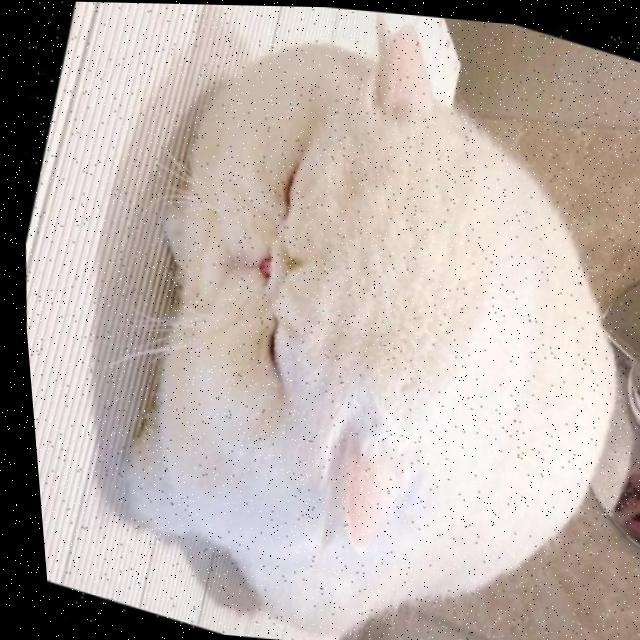Cats: (2, 0, 640, 640)
